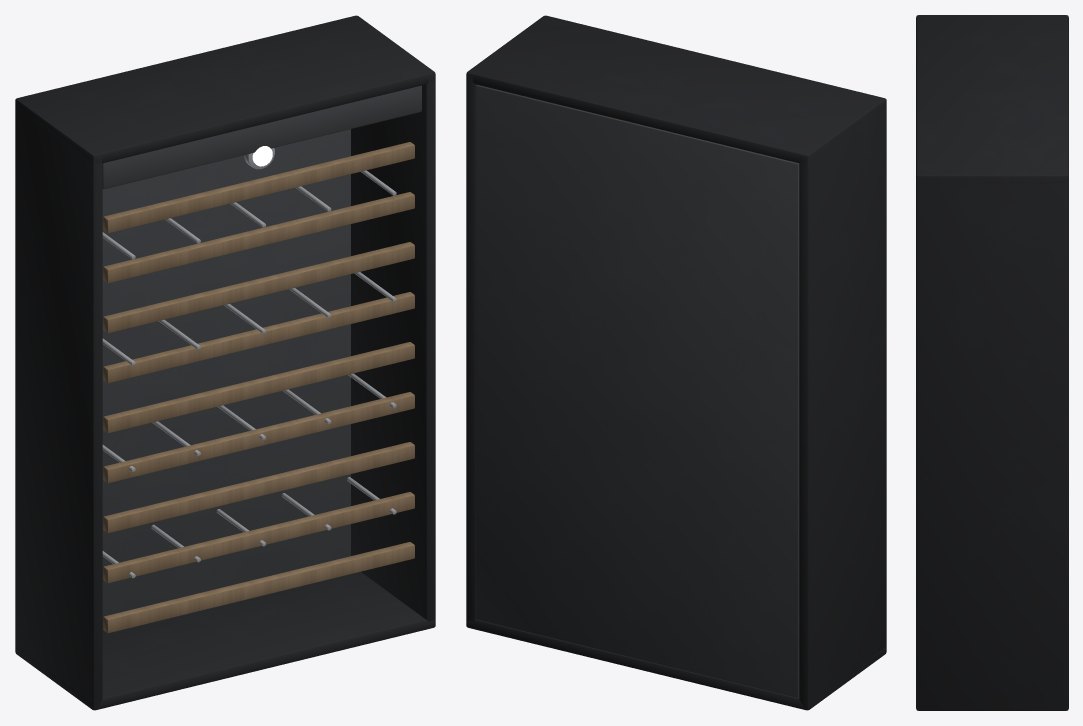
The model's file is pf_display_accessory_rack_t2.glb.
The picture shows the model from 3 angles, left to right: view 1: azimuth 30°, elevation 25°; view 2: azimuth 150°, elevation 25°; view 3: azimuth 270°, elevation 25°; orthographic projection. The views are drawn at different scales.
Visible parts, largest first — view 1: Case_Back, Case_Left, Case_Right, Case_Top, Case_Base, Header_Back, Accessory_Slat_09, Accessory_Slat_05, Accessory_Slat_07, Accessory_Slat_01, Accessory_Slat_03, Accessory_Slat_08 (+3 smaller); view 2: Case_Back, Case_Left, Case_Top, Case_Right, Case_Base; view 3: Case_Right, Case_Top.
Boxes of the visible parts, x1=… form: Case_Back: x1=102, y1=129, x2=350, y2=624; Case_Left: x1=15, y1=99, x2=102, y2=709; Case_Right: x1=351, y1=73, x2=435, y2=627; Case_Top: x1=16, y1=15, x2=435, y2=163; Case_Base: x1=16, y1=572, x2=435, y2=710; Header_Back: x1=102, y1=85, x2=421, y2=189; Accessory_Slat_09: x1=103, y1=142, x2=414, y2=233; Accessory_Slat_05: x1=103, y1=342, x2=414, y2=433; Accessory_Slat_07: x1=103, y1=242, x2=414, y2=333; Accessory_Slat_01: x1=103, y1=542, x2=414, y2=633; Accessory_Slat_03: x1=103, y1=442, x2=414, y2=533; Accessory_Slat_08: x1=103, y1=192, x2=414, y2=283; Case_Back: x1=476, y1=85, x2=799, y2=697; Case_Left: x1=799, y1=99, x2=886, y2=709; Case_Top: x1=466, y1=15, x2=886, y2=163; Case_Right: x1=466, y1=73, x2=476, y2=628; Case_Base: x1=466, y1=619, x2=886, y2=710; Case_Right: x1=916, y1=171, x2=1068, y2=710; Case_Top: x1=916, y1=15, x2=1068, y2=183.
Size of the model in its own units: 1.15 by 1.78 by 0.46.
Materials: 6 (3 with a texture image).
